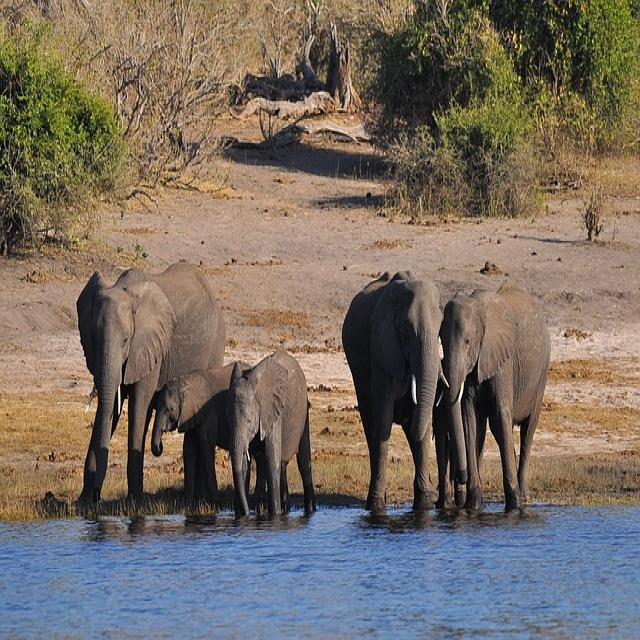FIL: (66, 261, 227, 535), (342, 264, 444, 516), (440, 271, 543, 517), (224, 348, 318, 520), (164, 355, 253, 520)
